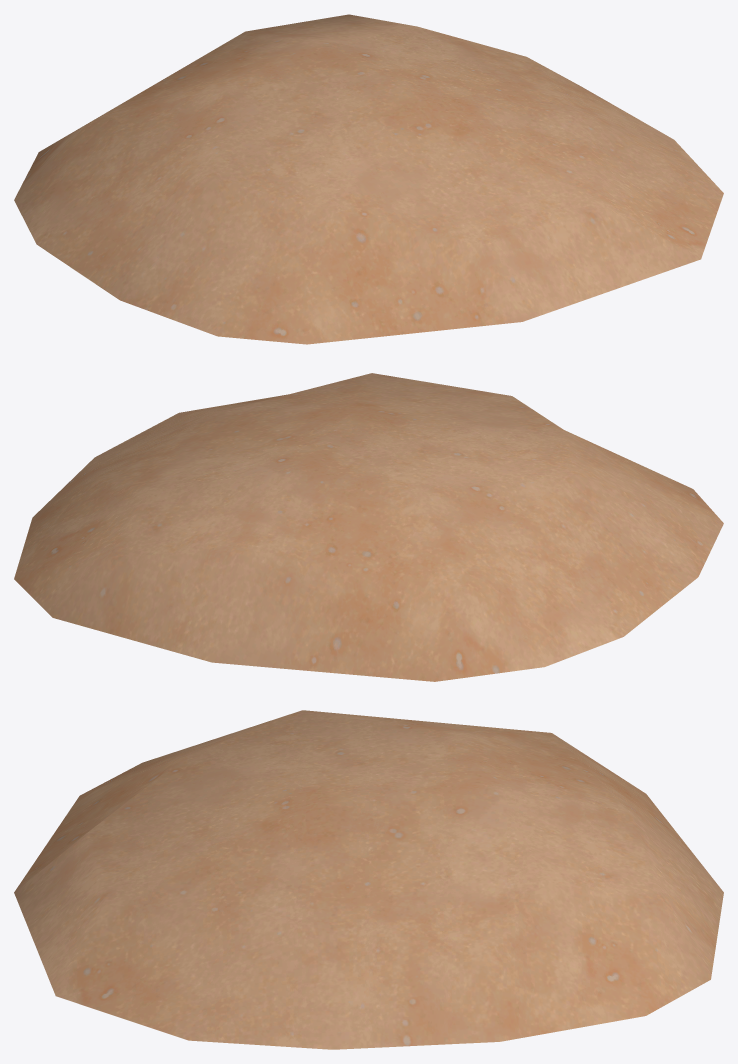
File: Pfb_Groundpile3.fbx
3 renders of one model, top to bottom at view 1: azimuth 30°, elevation 25°; view 2: azimuth 150°, elevation 25°; view 3: azimuth 270°, elevation 25°, orthographic. The views are drawn at different scales.
Visible parts, largest first — view 1: Mat_Tile_DryMud_01; view 2: Mat_Tile_DryMud_01; view 3: Mat_Tile_DryMud_01.
Part boxes in pixels (x1=…): Mat_Tile_DryMud_01: x1=14, y1=14, x2=723, y2=344; Mat_Tile_DryMud_01: x1=14, y1=373, x2=723, y2=681; Mat_Tile_DryMud_01: x1=14, y1=710, x2=723, y2=1049.
Size of the model in its own units: 5.37 by 0.9513 by 5.26.
Materials: 1 (1 with a texture image).
